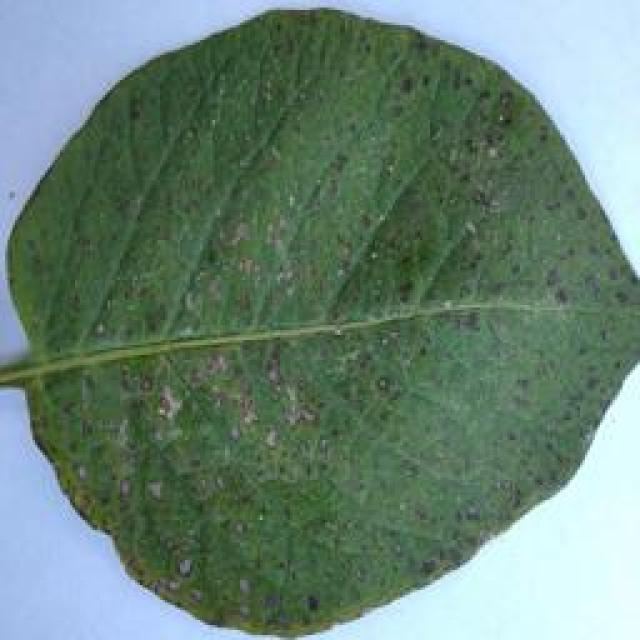Potato_Early_Blight: (8, 2, 633, 626)
